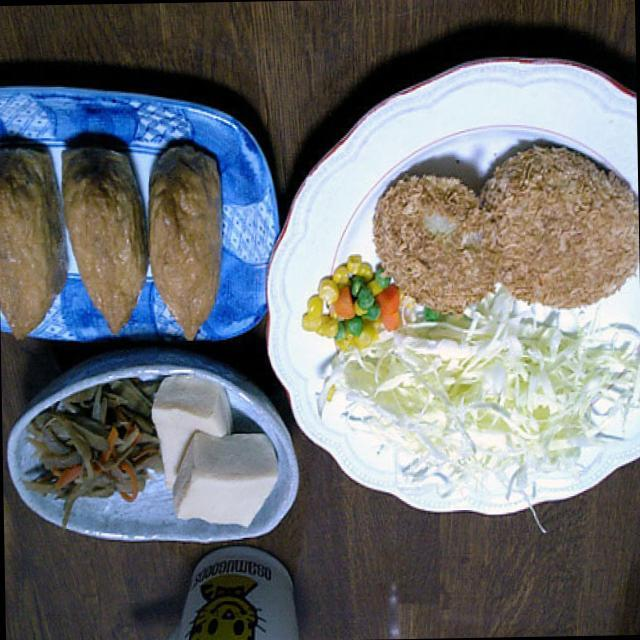Green Salad: (330, 312, 640, 512)
